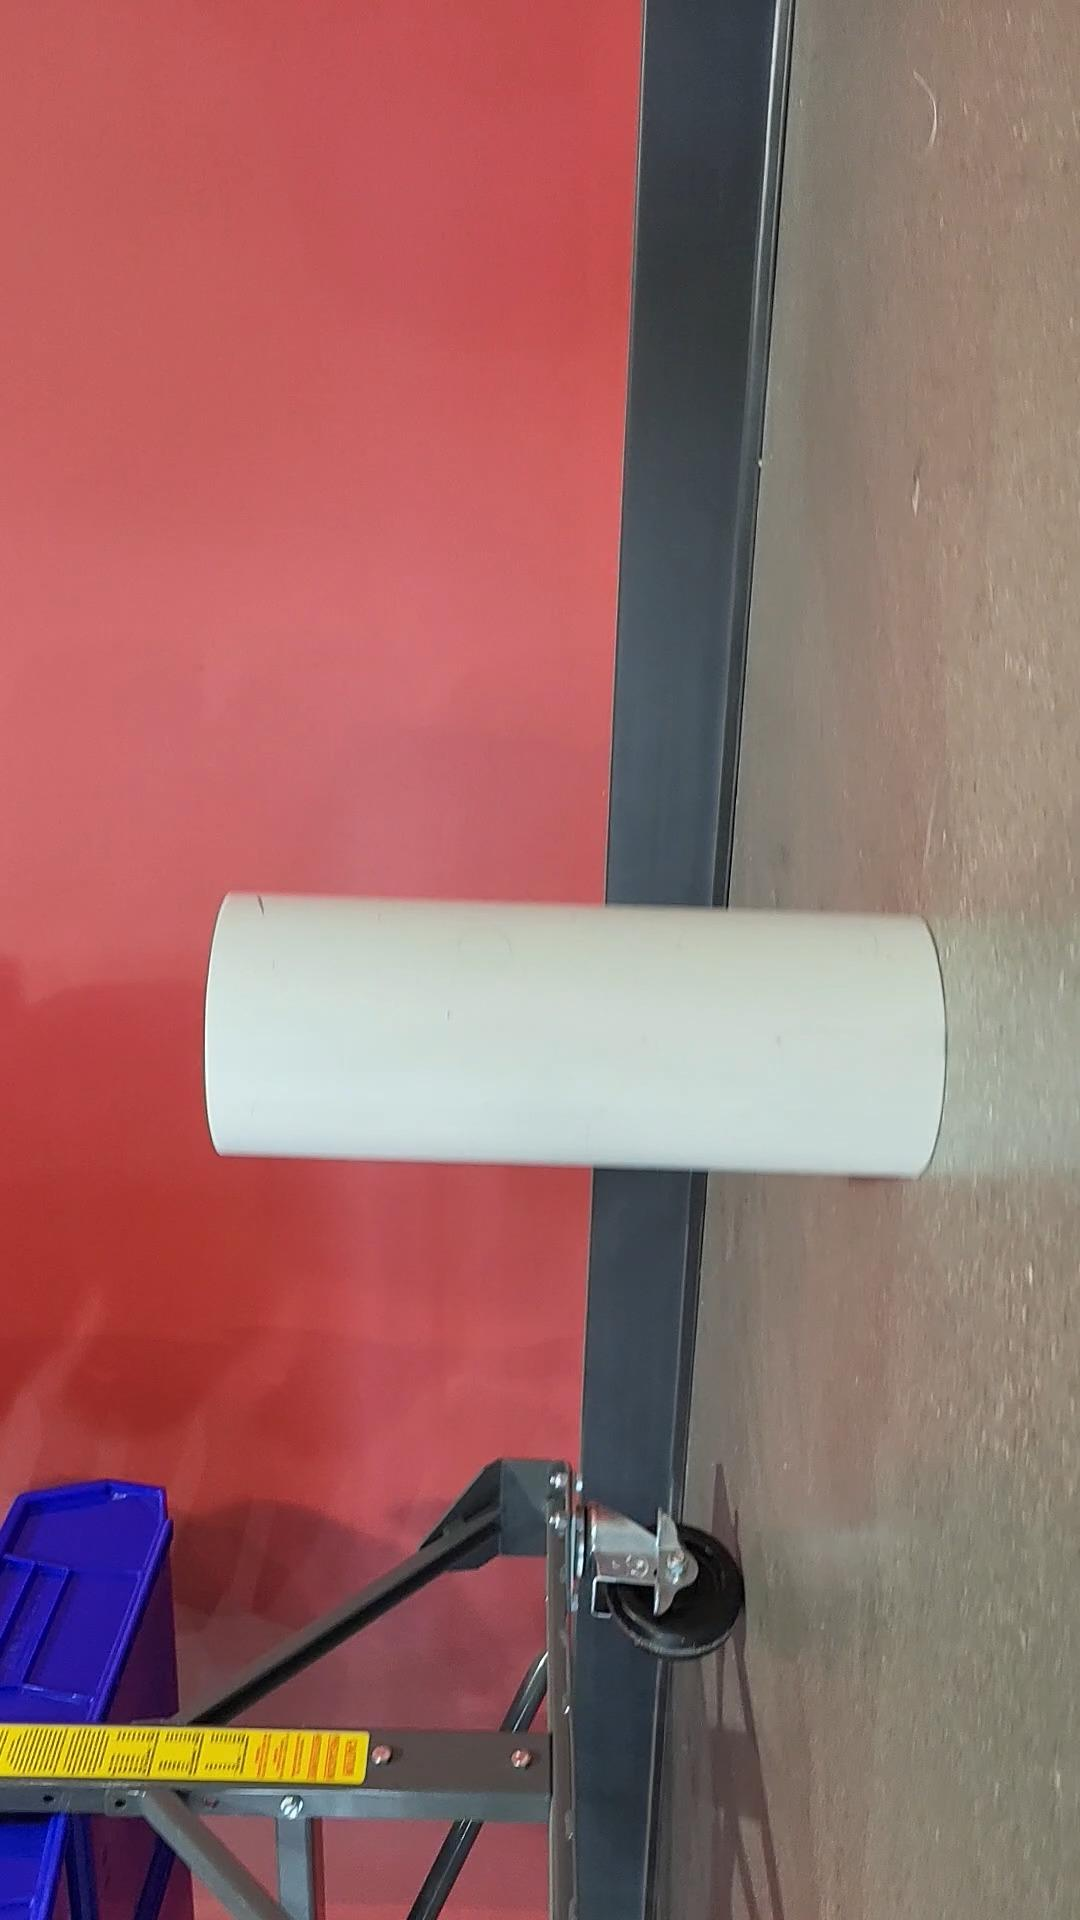coral: (193, 882, 960, 1197)
